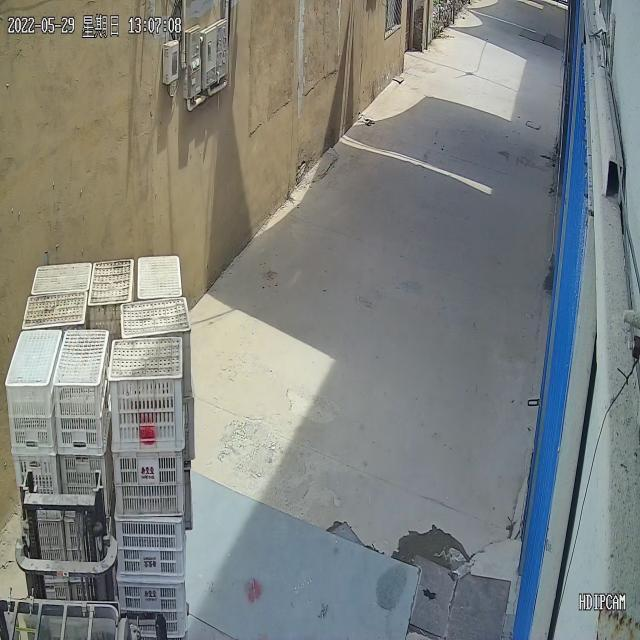forklift: (1, 473, 116, 639)
